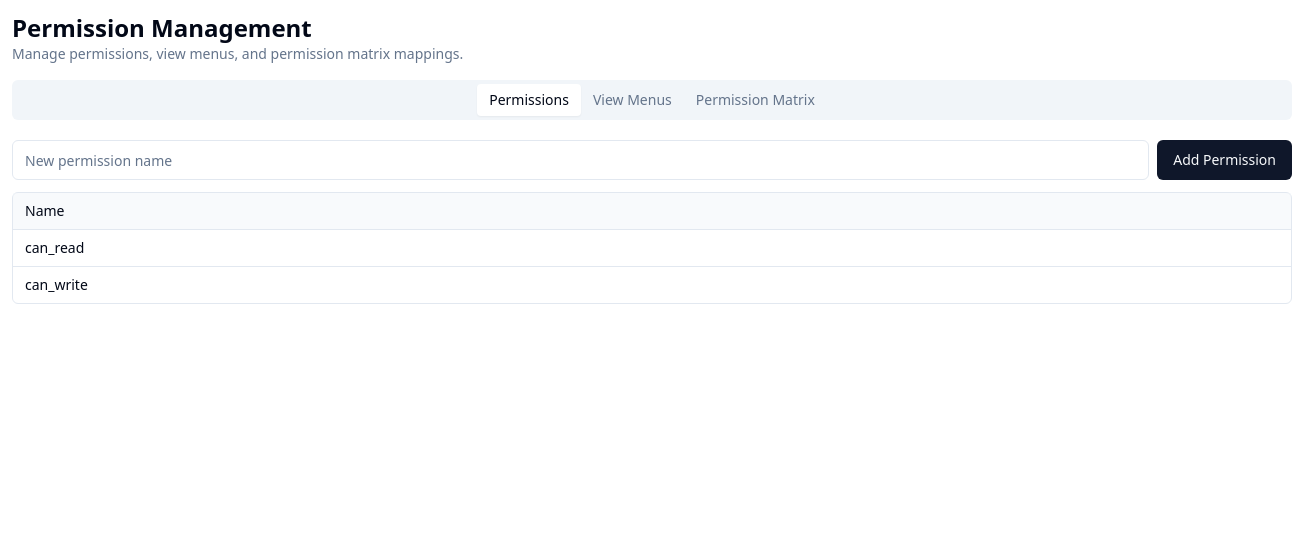
Test: PermissionsPage › renders all three tabs and base matrix labels
Expected: the tab "Permissions" is shown, [477,84,581,116]
Expected: the tab "View Menus" is shown, [581,84,684,116]
Click the tab "Permission Matrix".
click(755, 100)  # box [684,84,827,116]
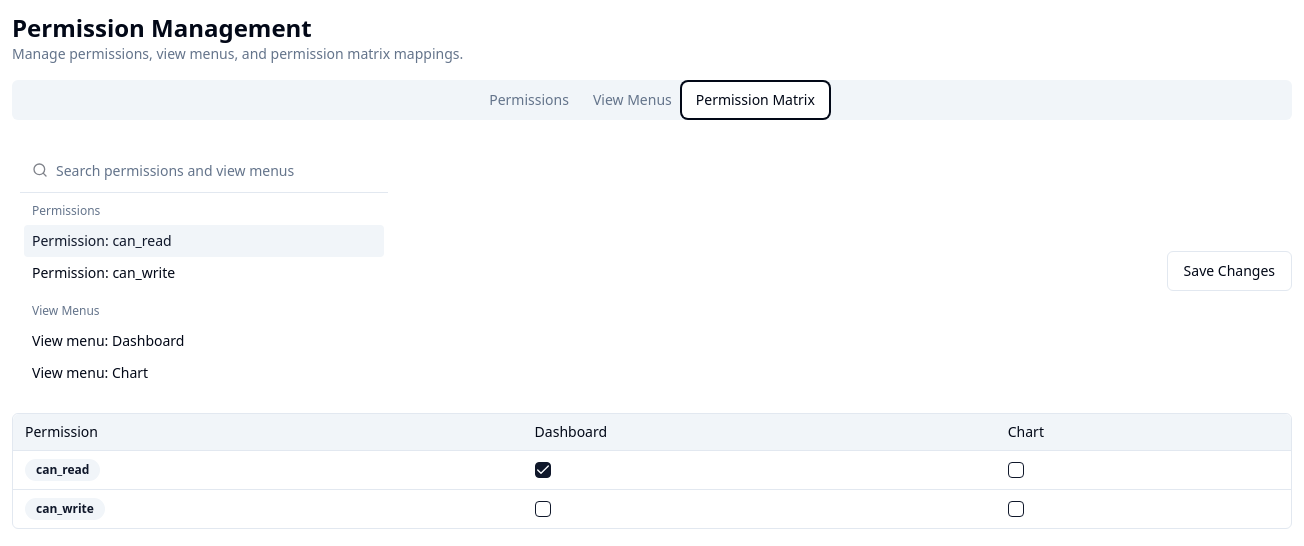
Expected: the text "can_read" is shown, [25,459,100,481]
Expected: the column heading "Dashboard" is shown, [523,414,996,450]
